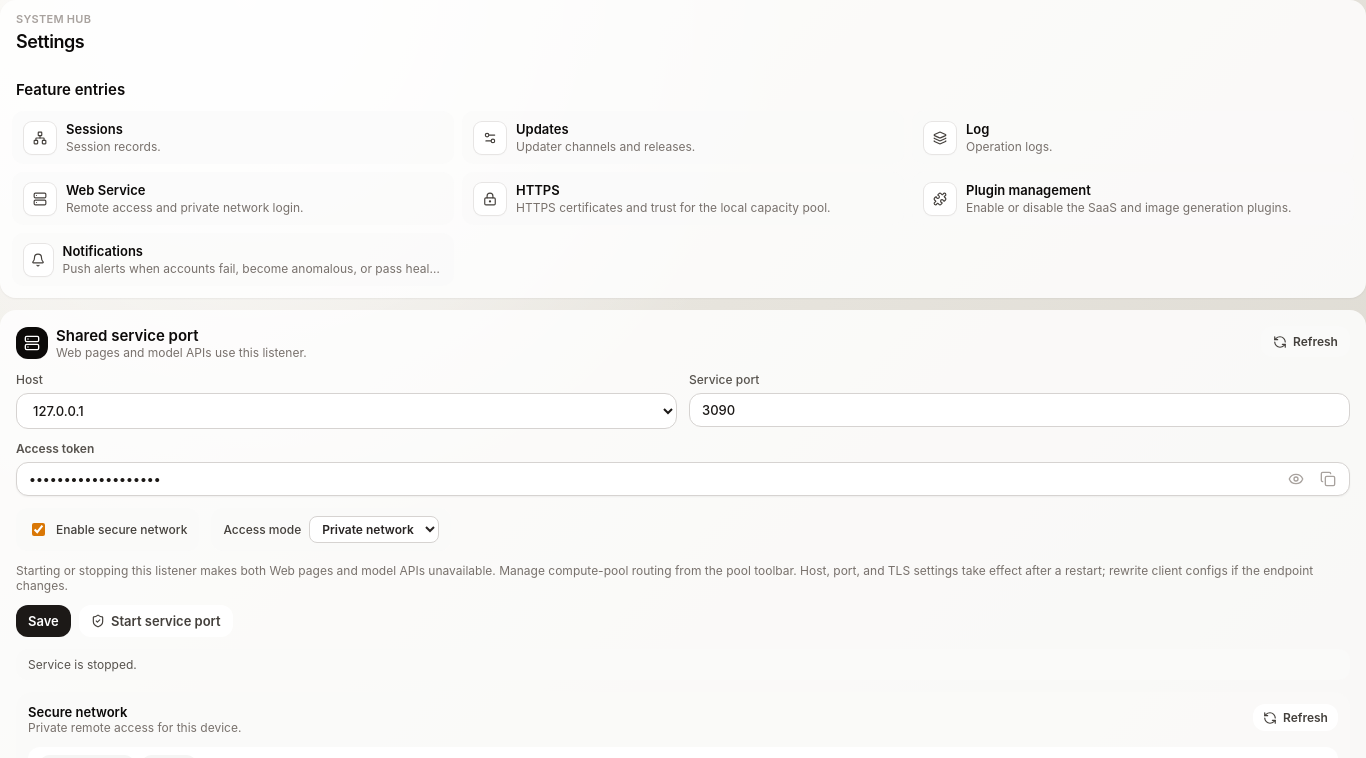
Test: SettingsScreen › shows active shared TLS instead of the legacy certificate status
Click the button "HTTPS": coordinates (683, 198) [462, 172, 904, 225]
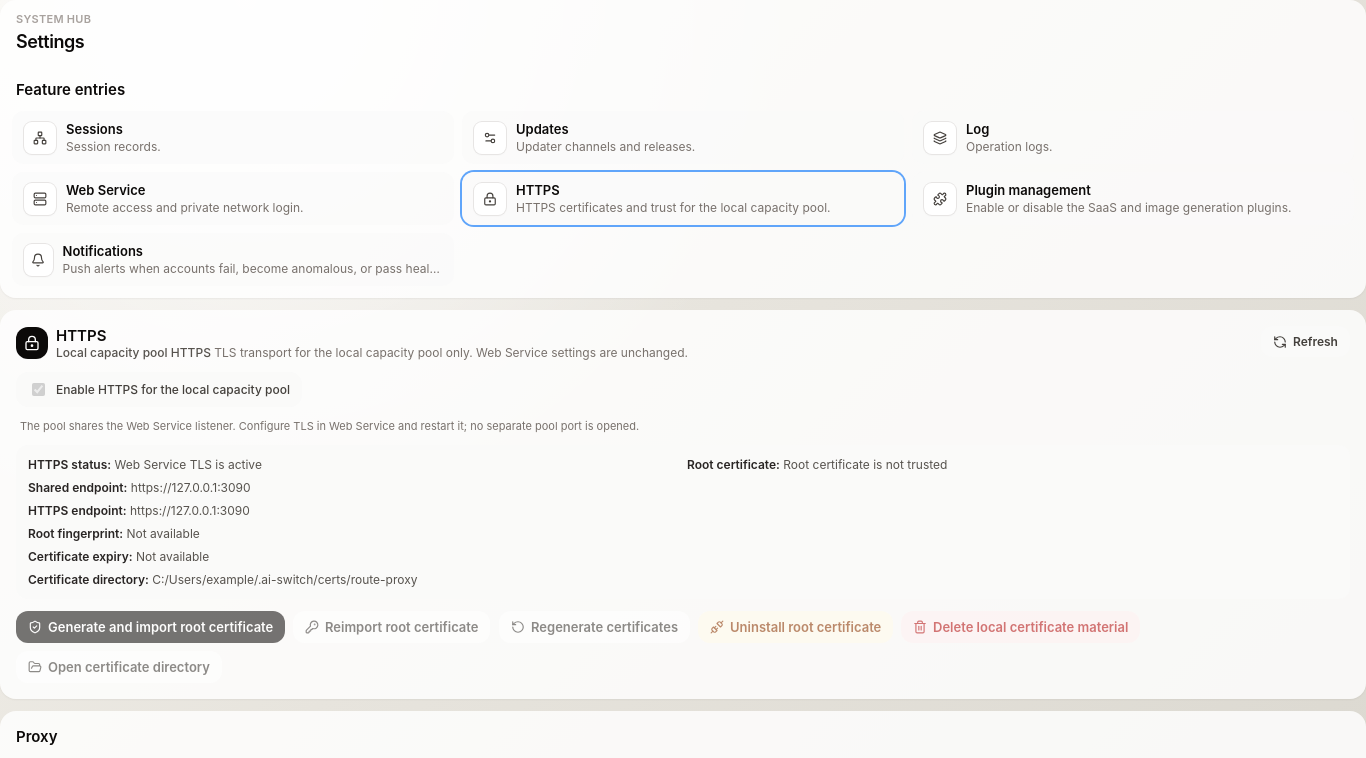
Now the text "HTTPS status: Web Service TLS is active" is shown, box [28, 457, 262, 472]
